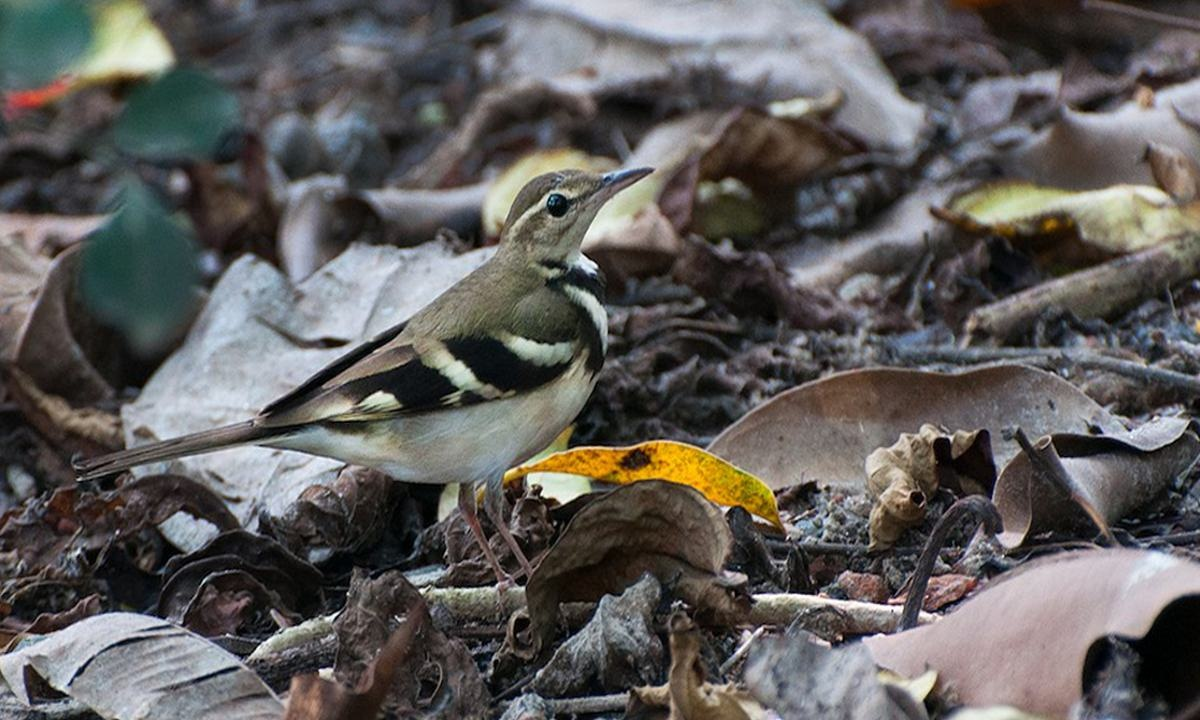wagtail: (180, 148, 674, 588)
